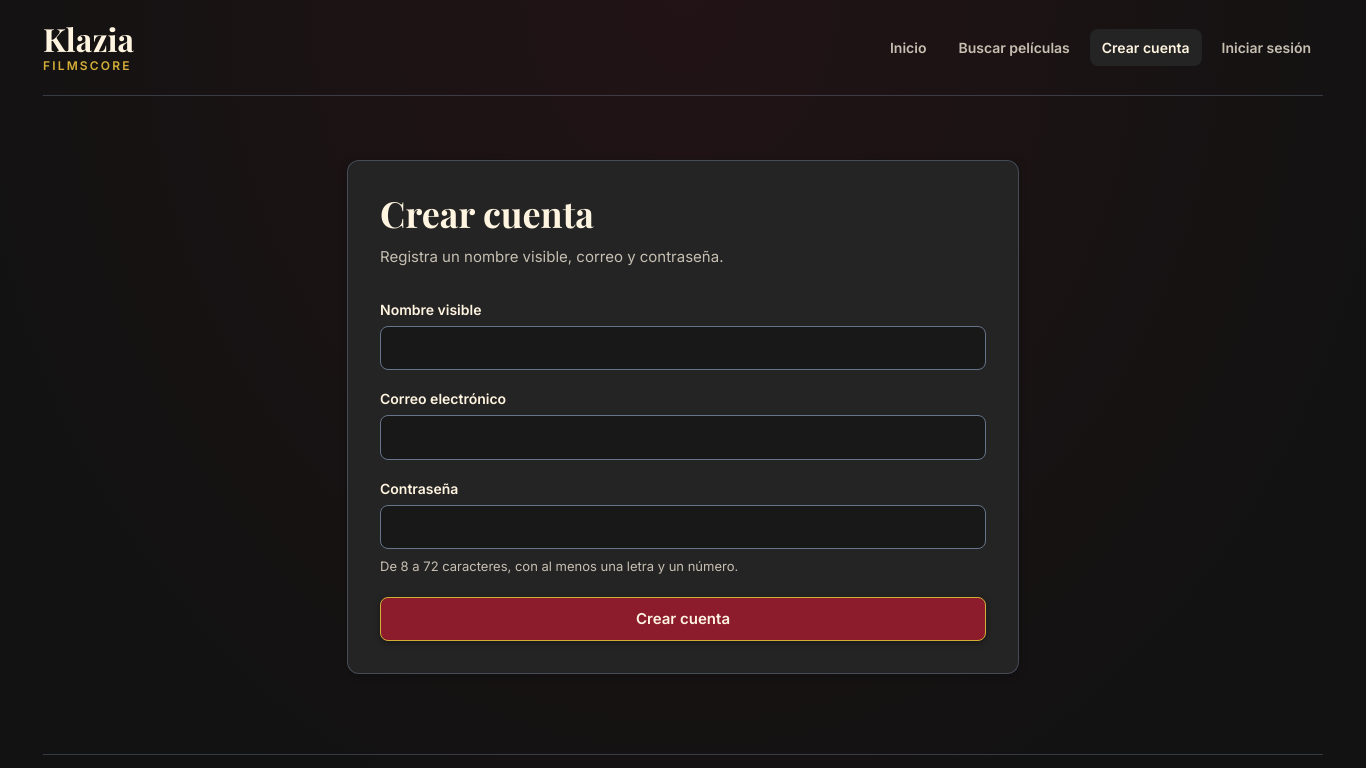
Test: public application shell › preserves registration fields and clears the password after a database error
Type "Persona de prueba" into the field labelled "Nombre visible" at (683, 348), box [380,326,986,370]
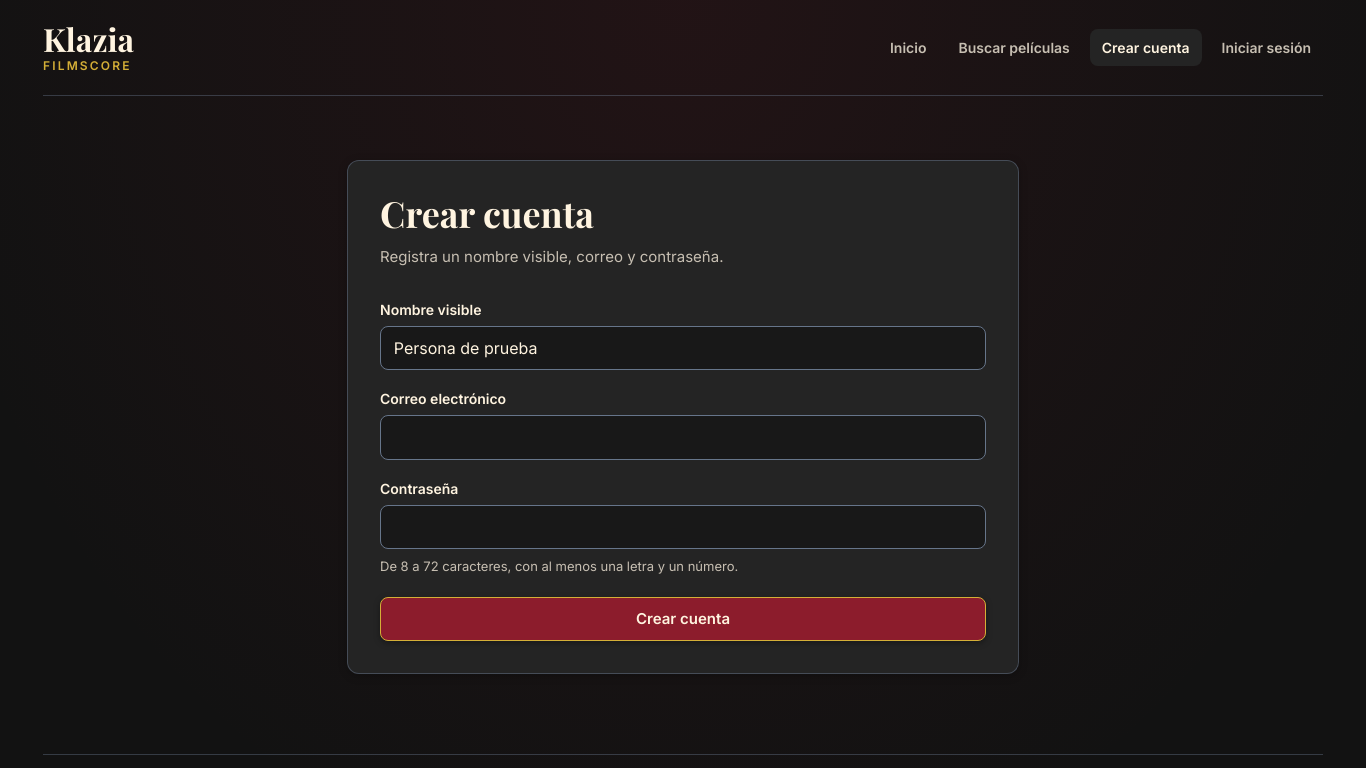
Type "persona@example.invalid" into the field labelled "Correo electrónico" at (683, 438), box [380,415,986,460]
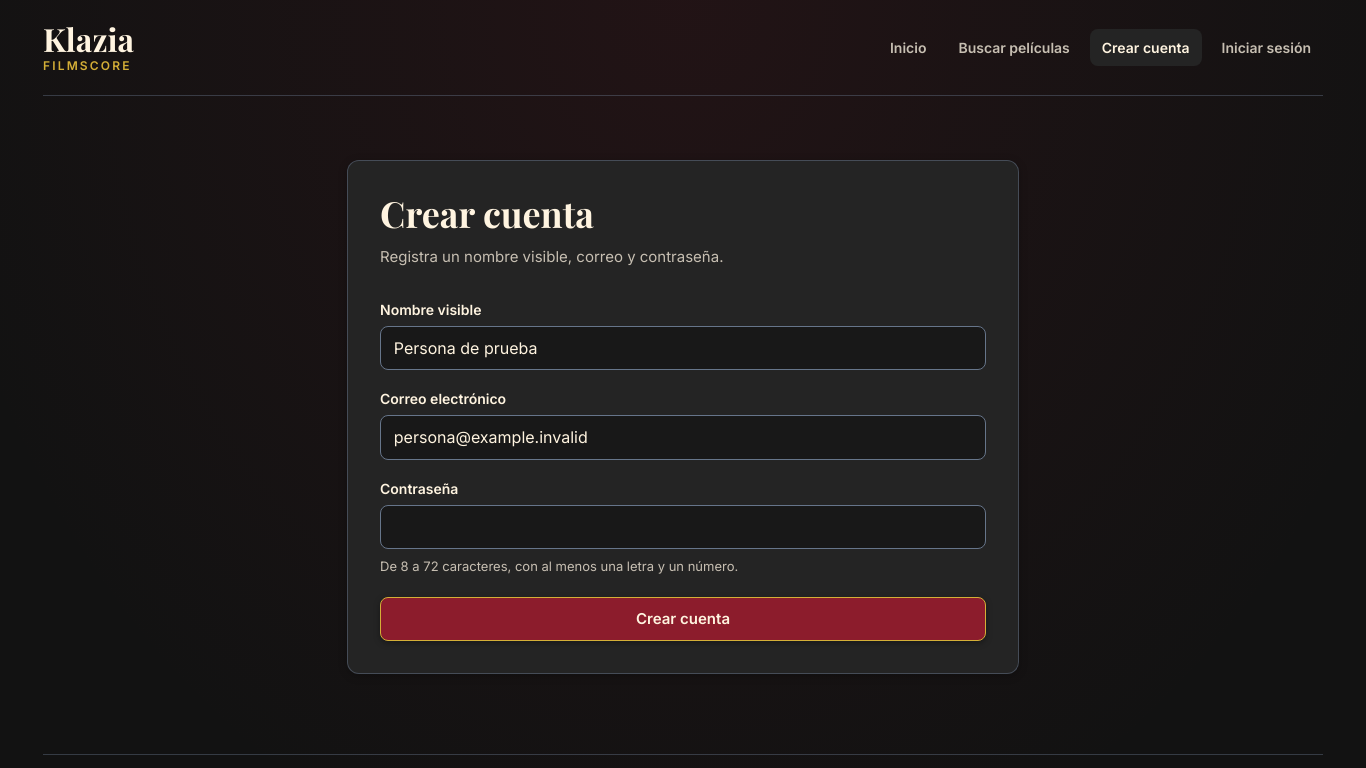
Type "ClavePrueba123" into the password field labelled "Contraseña" at (683, 527), box [380,505,986,549]
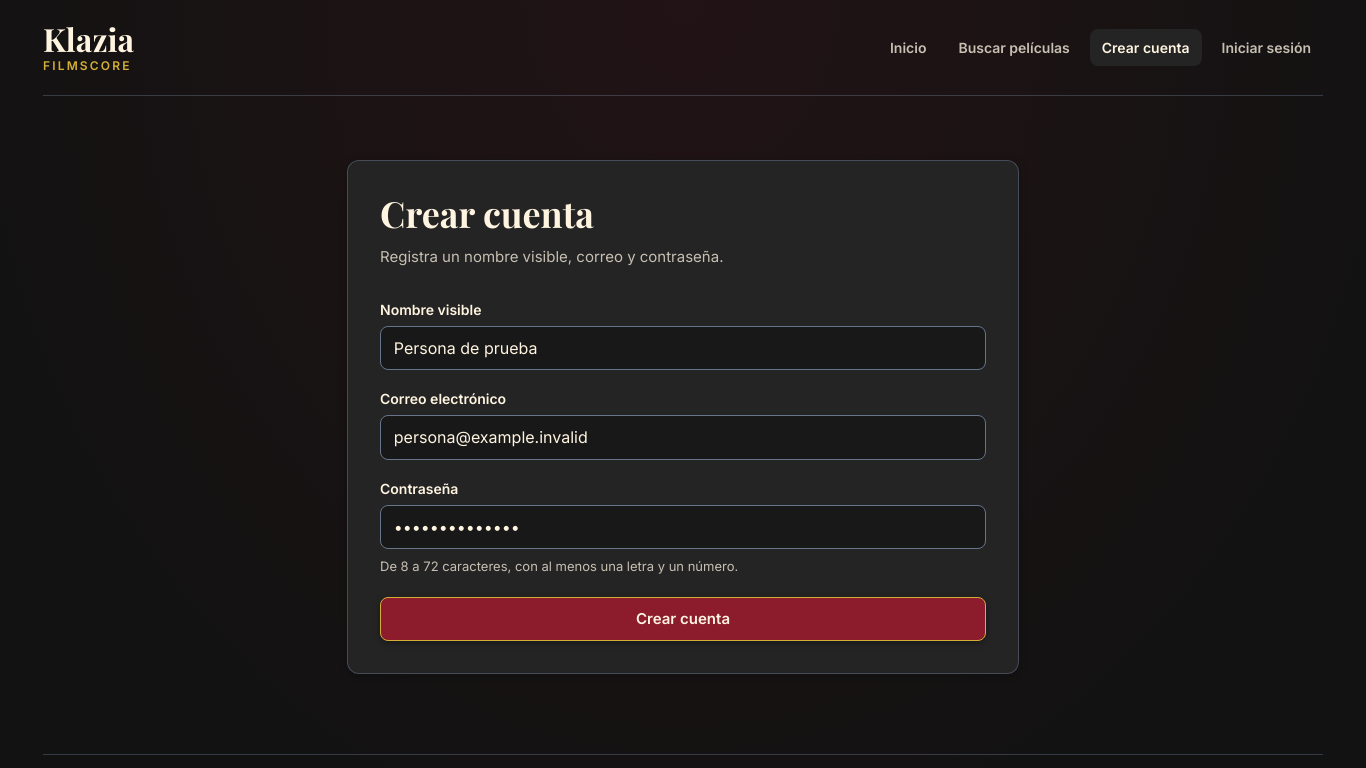
Click the button "Crear cuenta" at (683, 618), box [380,596,986,640]
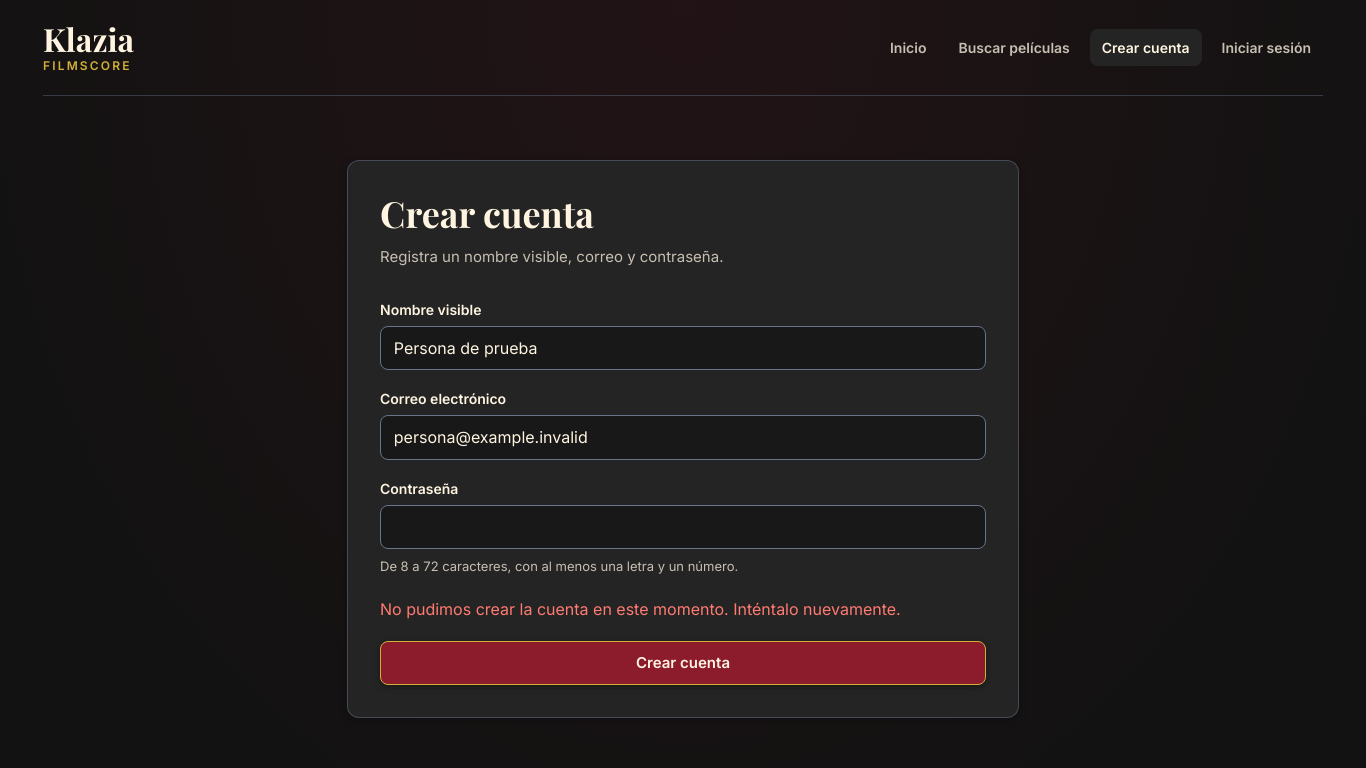
Now the message shows "No pudimos crear la cuenta", box [380,598,901,618]
Now the password field labelled "Contraseña" is empty, box [380,505,986,549]
